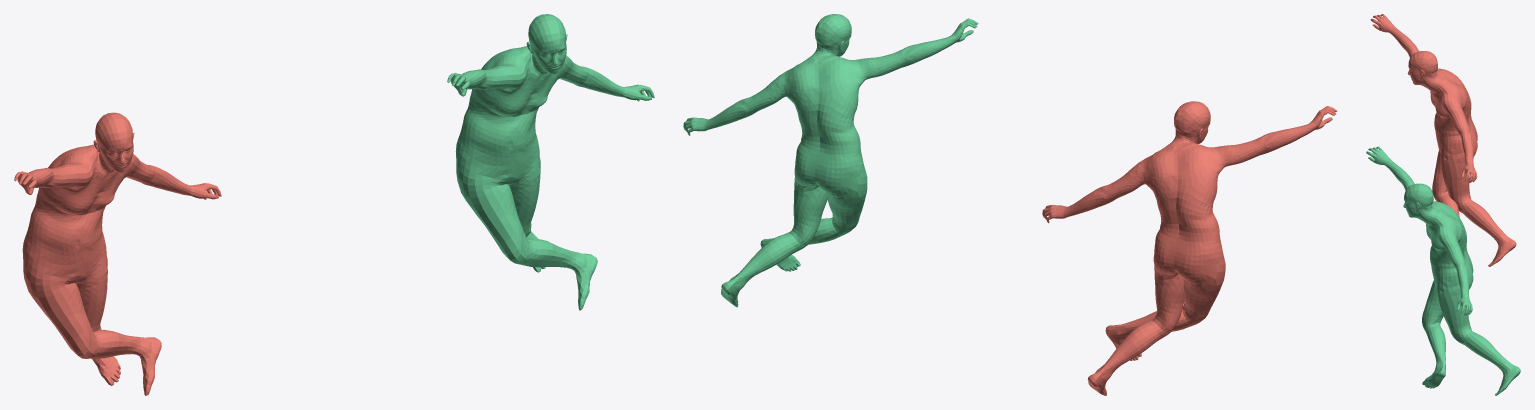
File: pose_337_before_after.glb
The picture shows the model from 3 angles, left to right: view 1: azimuth 30°, elevation 25°; view 2: azimuth 150°, elevation 25°; view 3: azimuth 270°, elevation 25°; orthographic projection. The views are drawn at different scales.
Visible parts, largest first — view 1: input_red, poseshield_green; view 2: poseshield_green, input_red; view 3: poseshield_green, input_red.
Part boxes in pixels (bbox=[...]): input_red: bbox=[14, 112, 221, 395]; poseshield_green: bbox=[447, 14, 654, 310]; poseshield_green: bbox=[683, 14, 978, 307]; input_red: bbox=[1042, 101, 1337, 395]; poseshield_green: bbox=[1366, 146, 1520, 395]; input_red: bbox=[1370, 14, 1516, 266].
Size of what is drawn, in the model's own units: 3.45 by 1.51 by 1.05.
